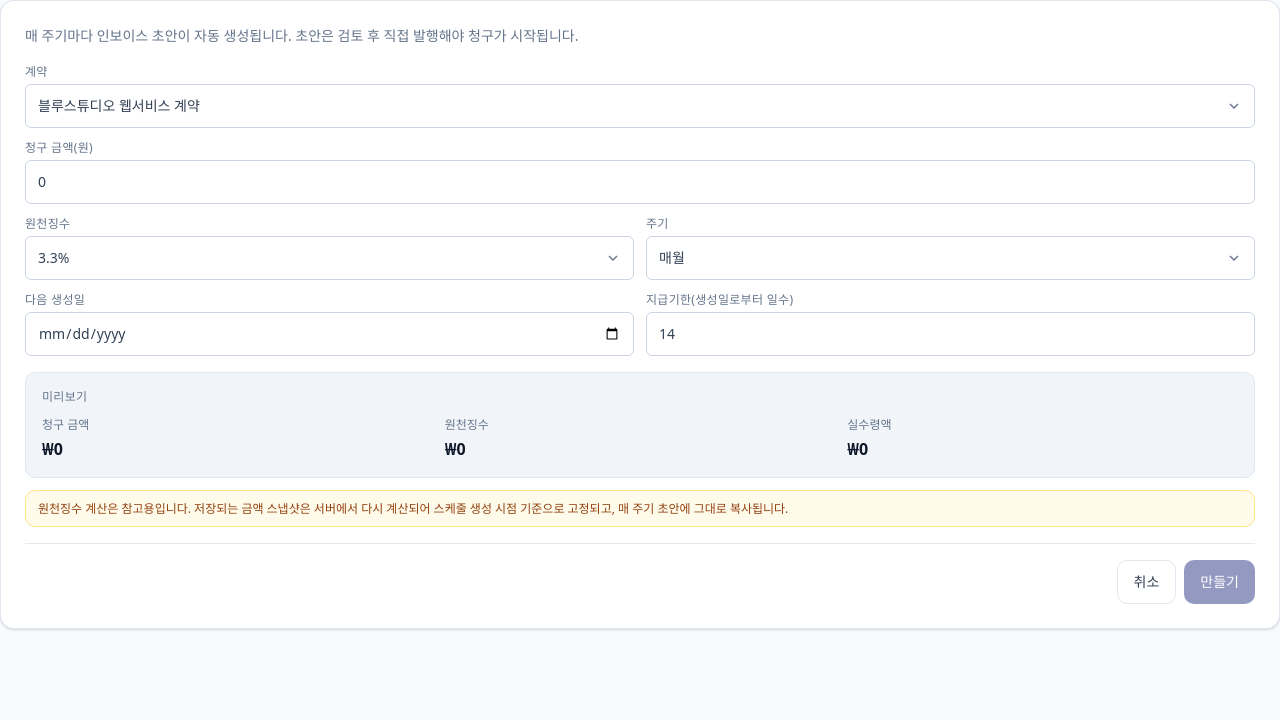
Test: RecurringScheduleForm › recalculates the preview when the withholding type changes
Replace the text in the number field labelled "청구 금액(원)" with "1000000". click: (640, 182)
box: 25,160 -> 1255,204
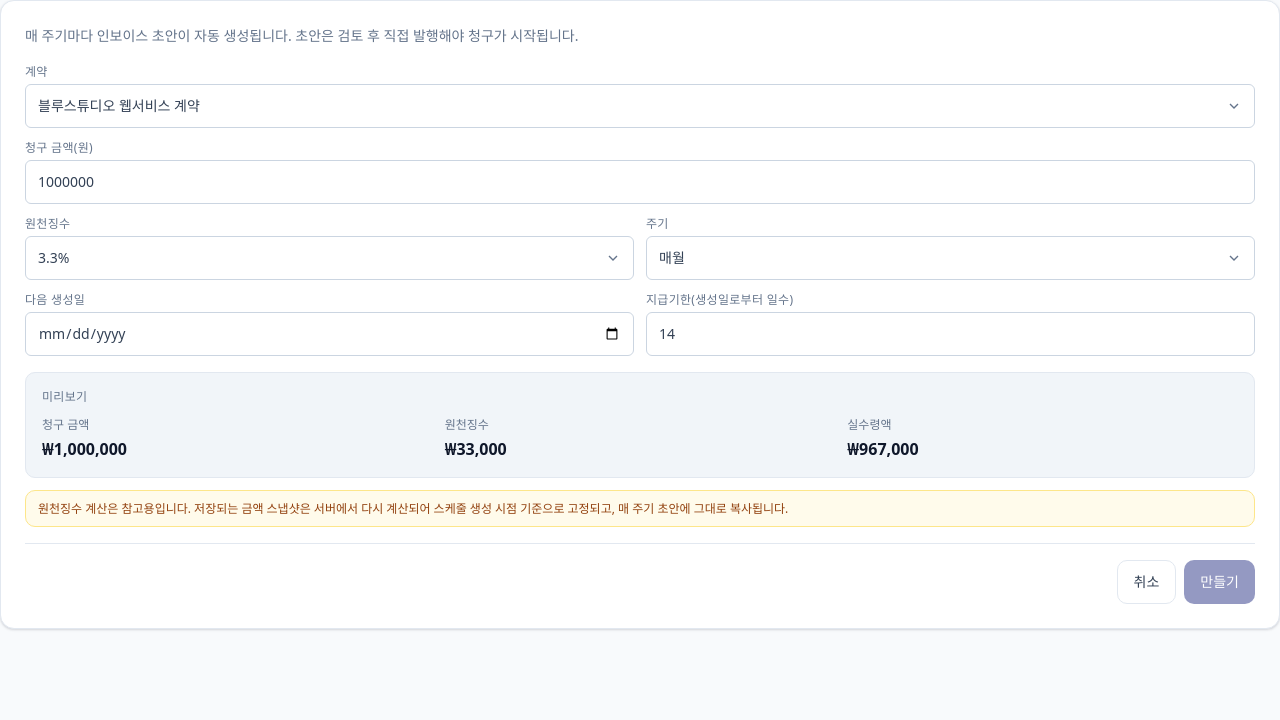
Select "없음" in the dropdown labelled "원천징수". click: (330, 258)
box: 25,236 -> 634,280
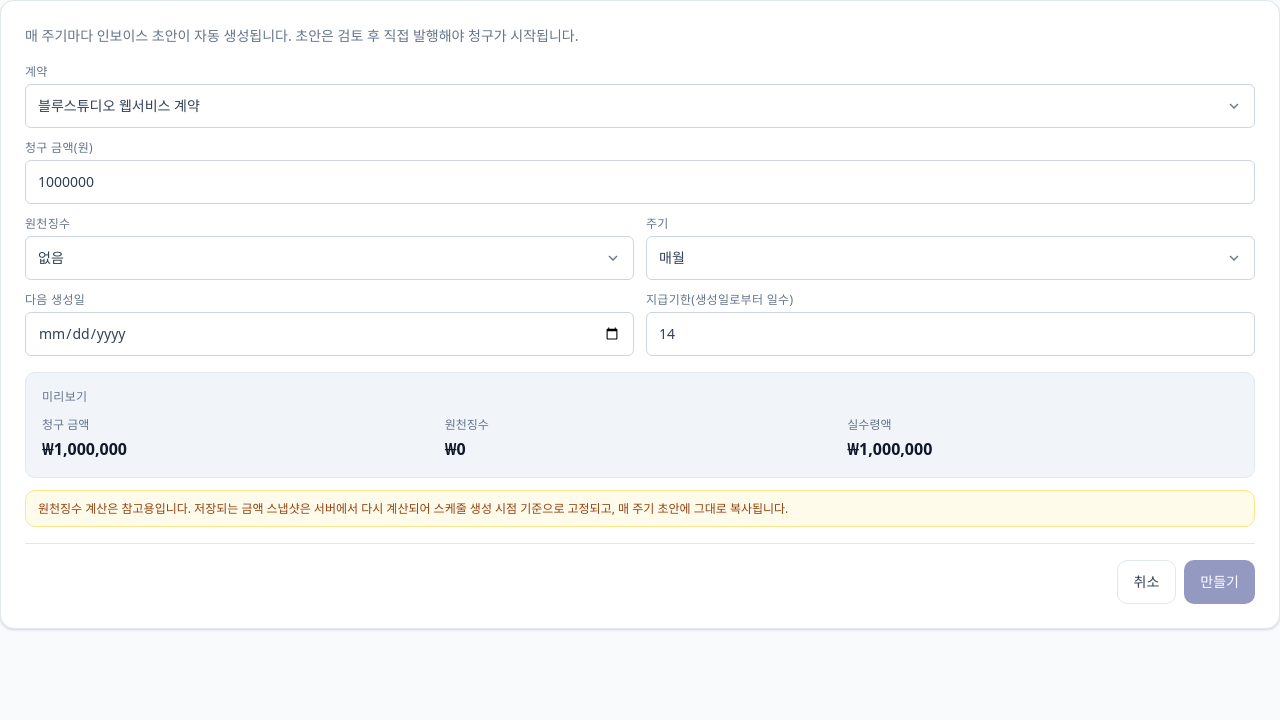
Expected: the element "미리보기" shows "₩1,000,000", 42,438 -> 127,460
Expected: the element "미리보기" shows "₩0", 445,438 -> 466,460
